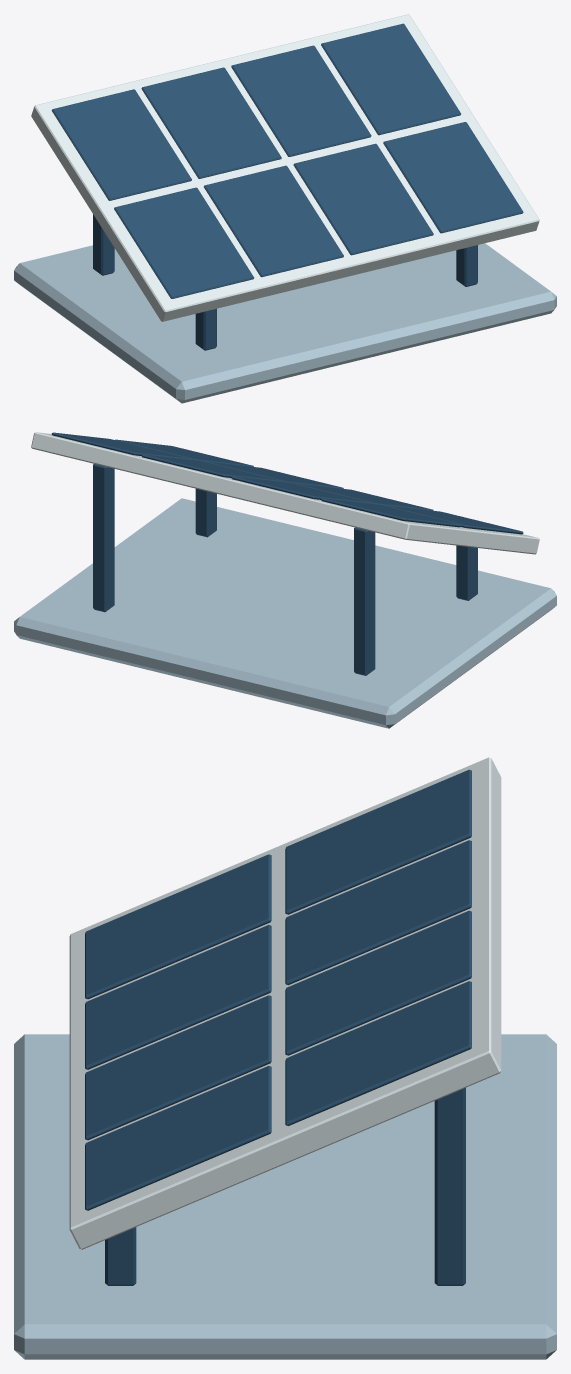
3 views of the same model, one above another, from view 1: azimuth 30°, elevation 25°; view 2: azimuth 150°, elevation 25°; view 3: azimuth 270°, elevation 25° (orthographic). The views are drawn at different scales.
Parts seen in each view (by area): view 1: campus_solar; view 2: campus_solar; view 3: campus_solar.
Part boxes in pixels (bbox=[...]): campus_solar: bbox=[14, 14, 556, 403]; campus_solar: bbox=[14, 432, 556, 728]; campus_solar: bbox=[14, 757, 556, 1359].
Bounding box in the file's own units: 3.65 × 1.77 × 2.8.
Materials: 1 (1 with a texture image).
